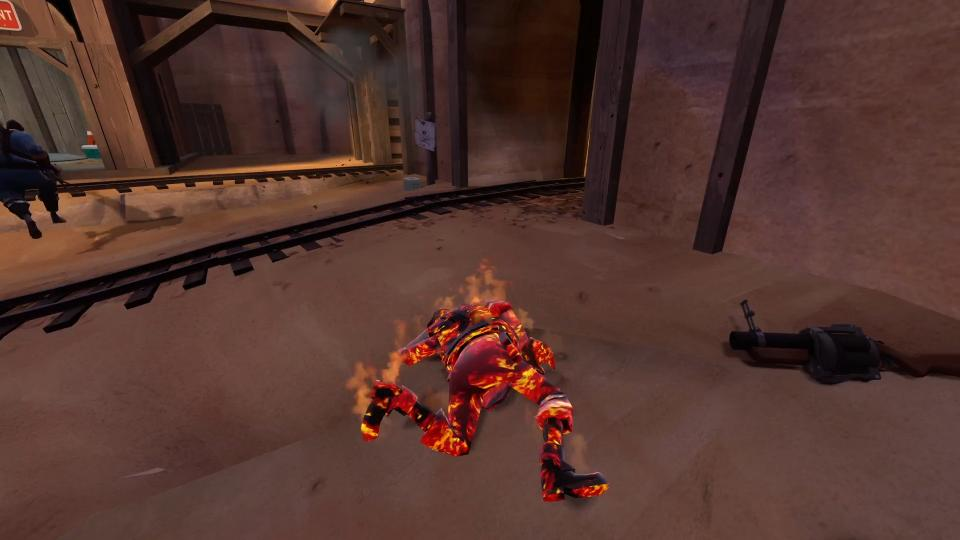Enemy: (360, 297, 611, 506), (0, 116, 70, 241)
